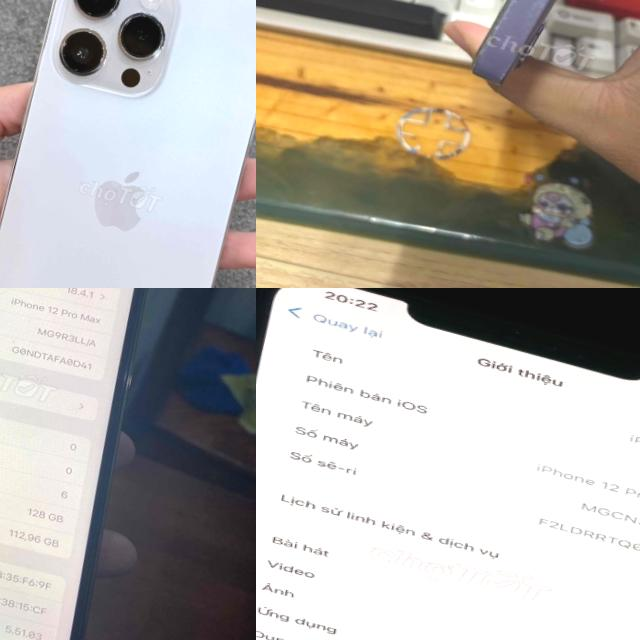scratch: (475, 0, 573, 81)
